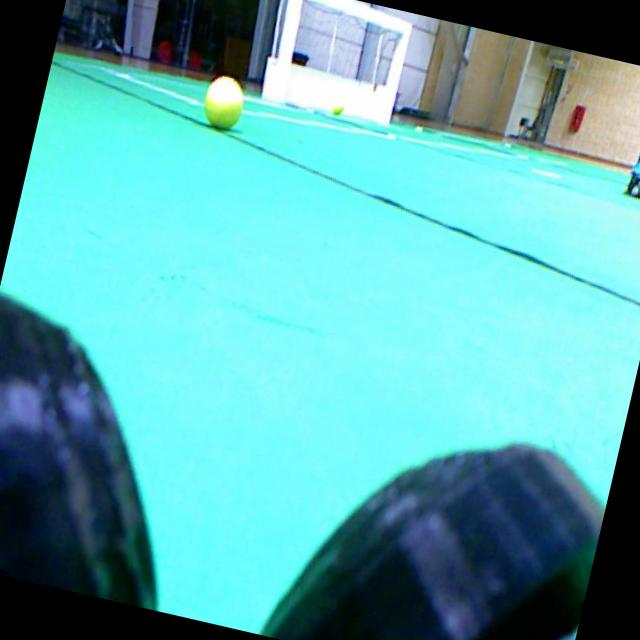ball: (204, 75, 243, 128), (331, 106, 343, 114)
goal: (268, 0, 302, 102), (379, 21, 411, 124)
